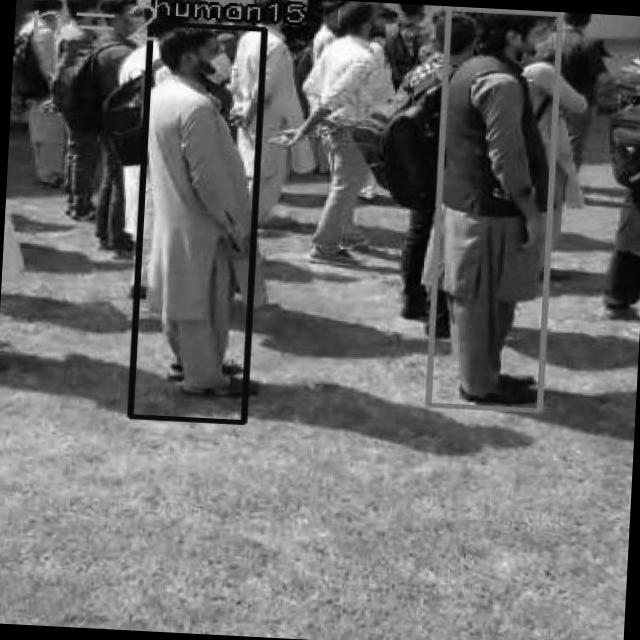person: (127, 21, 264, 422), (424, 7, 560, 410)
